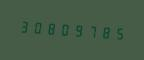eight: (95, 21, 107, 42), (43, 18, 55, 38)
five: (108, 22, 120, 43)
nine: (69, 19, 81, 40)
seven: (82, 20, 94, 41)
three: (17, 16, 29, 36)
zero: (56, 18, 68, 39), (30, 17, 42, 37)
